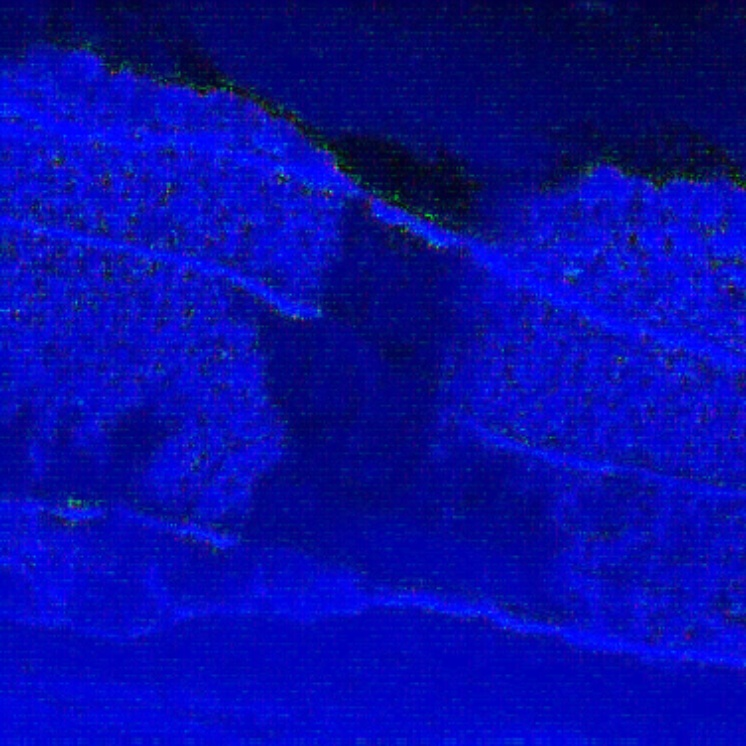rip_current: (213, 96, 563, 590)
